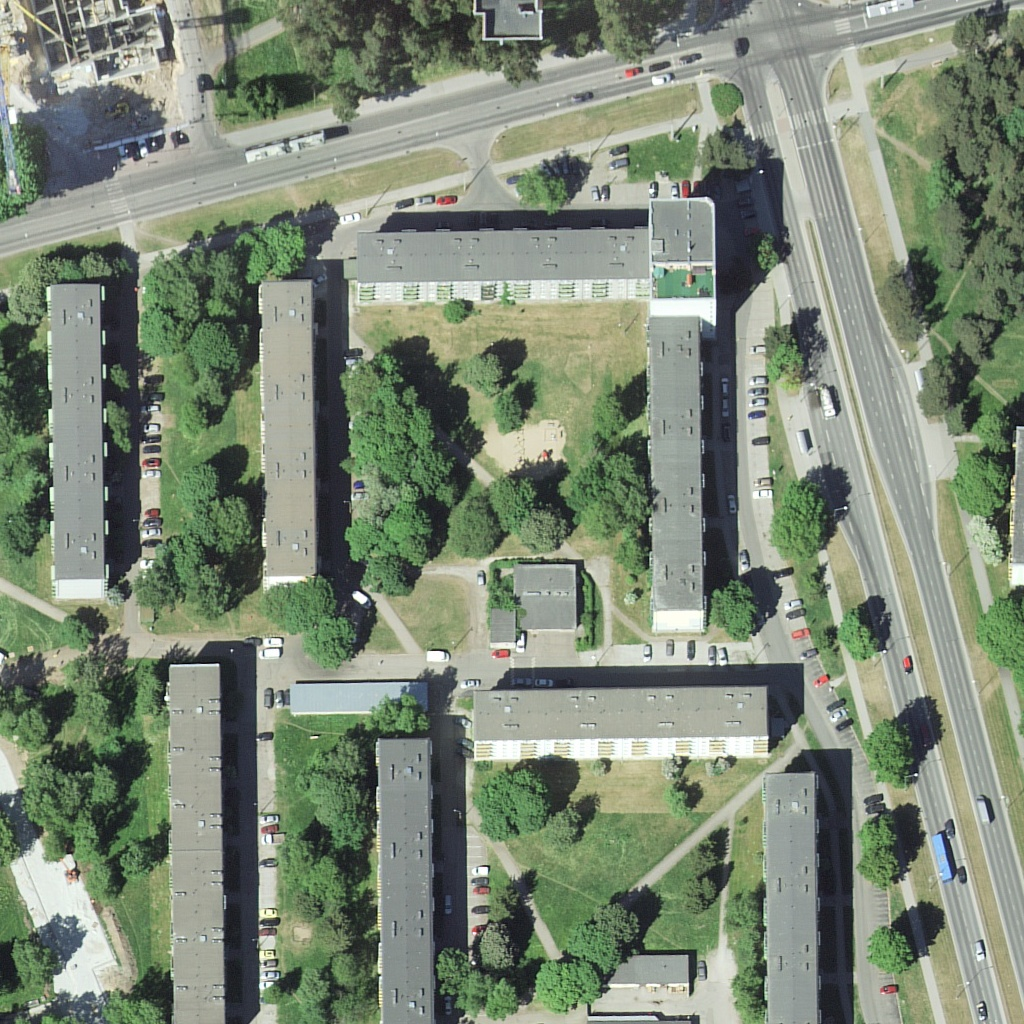building: (353, 222, 651, 311), (247, 278, 326, 596), (468, 687, 772, 767), (641, 311, 710, 646), (166, 659, 228, 1024), (47, 278, 112, 610), (368, 742, 438, 1024), (758, 770, 820, 1024), (642, 198, 737, 337), (486, 565, 580, 653), (284, 678, 435, 721), (606, 951, 702, 994)
